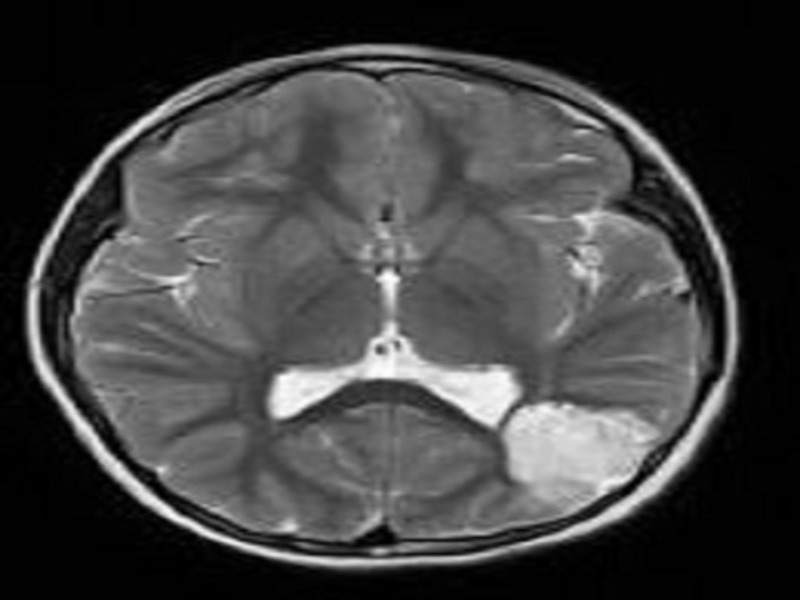tumor: (495, 388, 656, 502)
